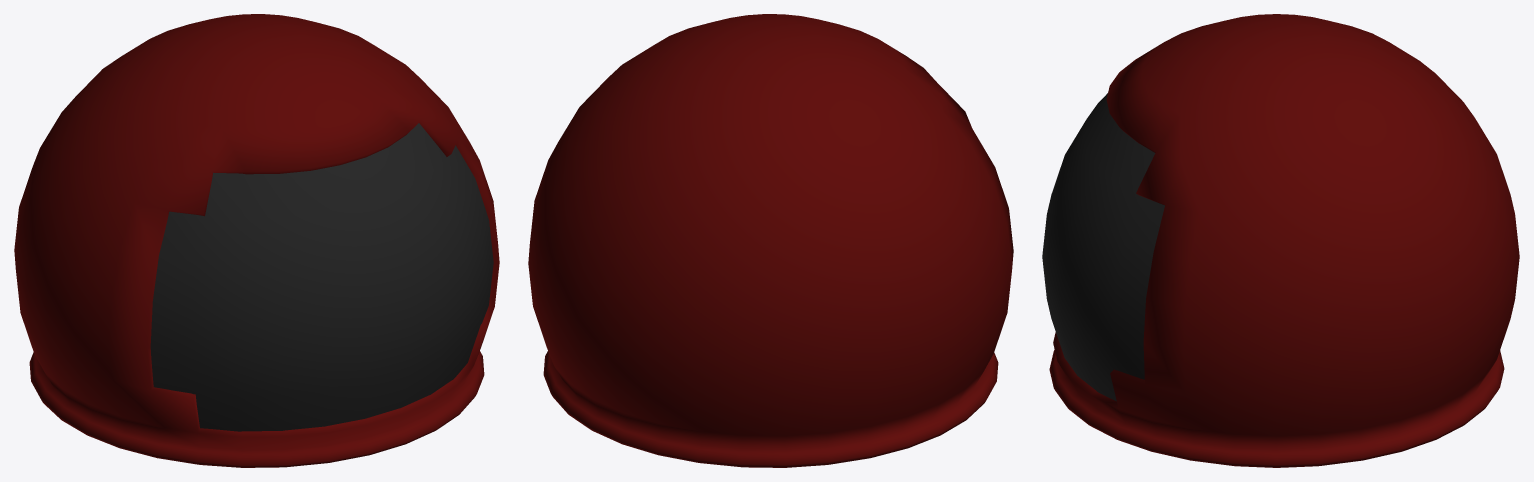
File: Helmet.fbx
3 renders of one model, left to right at view 1: azimuth 30°, elevation 25°; view 2: azimuth 150°, elevation 25°; view 3: azimuth 270°, elevation 25°, orthographic.
Parts seen in each view (by area): view 1: Helmet, Glass; view 2: Helmet; view 3: Helmet, Glass.
Boxes of the visible parts, x1=… form: Helmet: x1=14, y1=14, x2=499, y2=467; Glass: x1=150, y1=123, x2=493, y2=431; Helmet: x1=528, y1=14, x2=1013, y2=467; Helmet: x1=1049, y1=14, x2=1519, y2=467; Glass: x1=1042, y1=93, x2=1164, y2=401.
Bounding box in the file's own units: 220 × 171 × 216.
